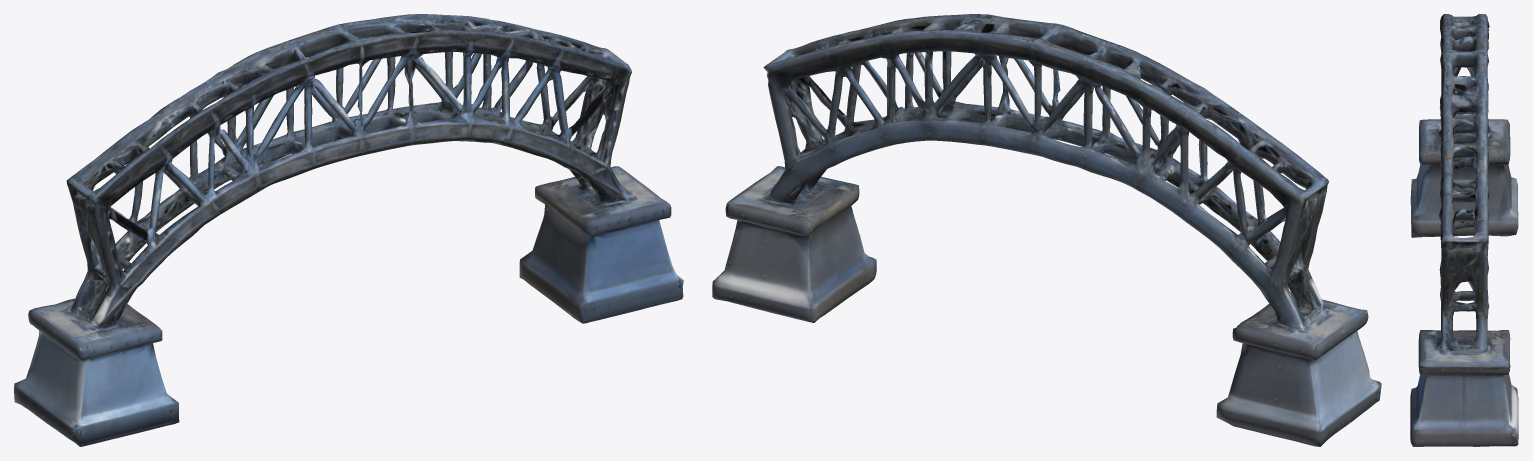
The model's file is ca4b3623-6afa-4019-b1f2-67fc3be7c20f.glb.
3 renders of one model, left to right at view 1: azimuth 30°, elevation 25°; view 2: azimuth 150°, elevation 25°; view 3: azimuth 270°, elevation 25°, orthographic. The views are drawn at different scales.
Size of the model in its own units: 2 by 1 by 0.3628.
Materials: 1 (1 with a texture image).
